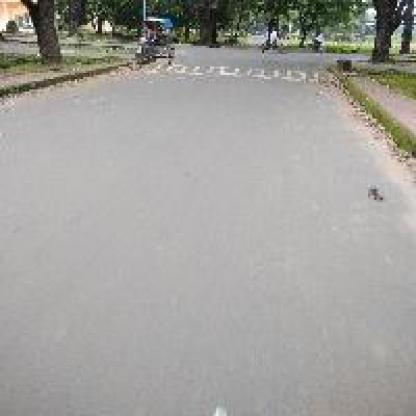Speed Bump: (166, 60, 314, 84)
